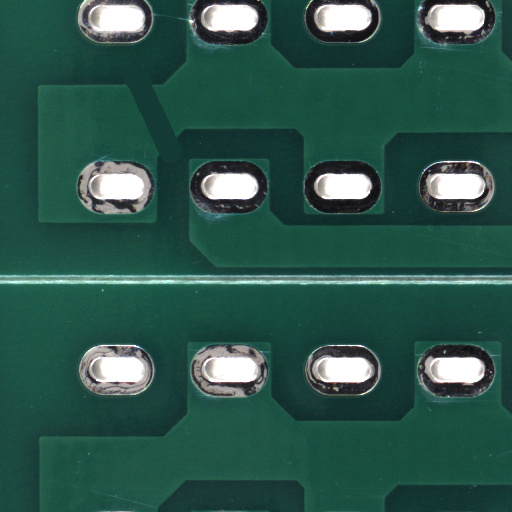Open_circuit: (152, 119, 215, 202)
